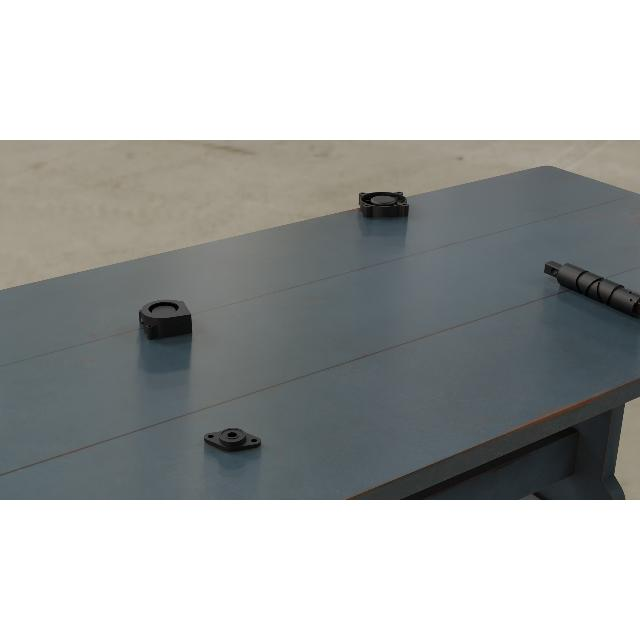Pieza1: (540, 254, 640, 334)
Pieza2: (200, 424, 264, 454)
Pieza3: (136, 296, 192, 342)
Pieza4: (358, 192, 410, 218)
